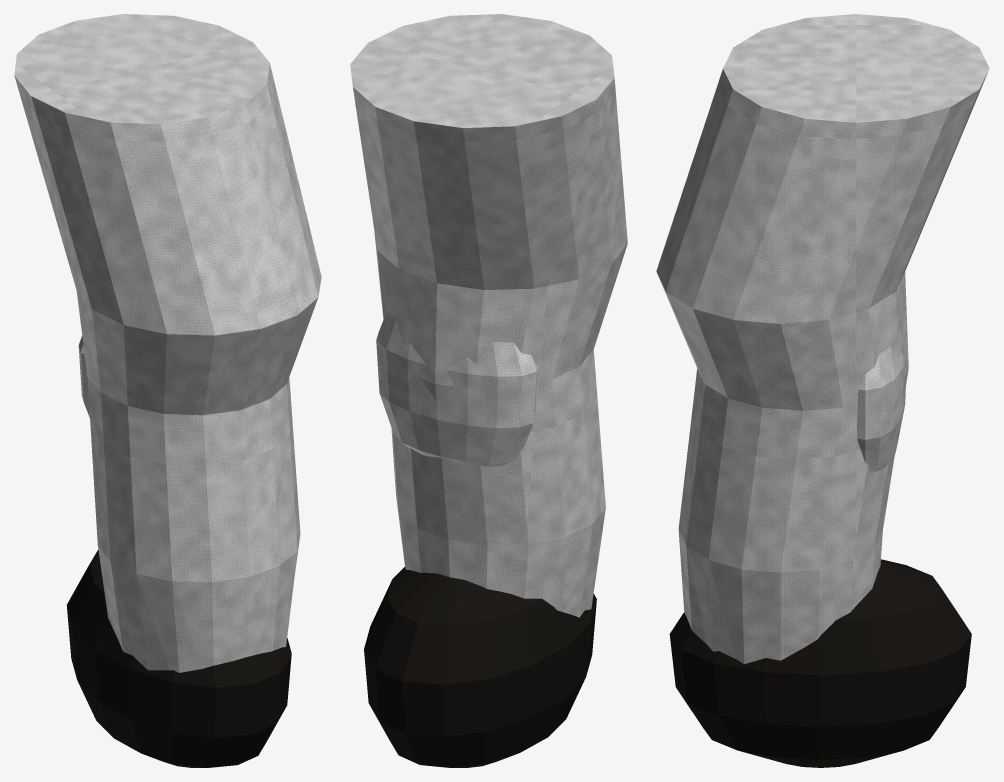
File: FieldLegR.obj
3 renders of one model, left to right at view 1: azimuth 30°, elevation 25°; view 2: azimuth 150°, elevation 25°; view 3: azimuth 270°, elevation 25°, orthographic. The views are drawn at different scales.
Size of the model in its own units: 0.3106 by 0.84 by 0.375.
Materials: 3 (2 with a texture image).
